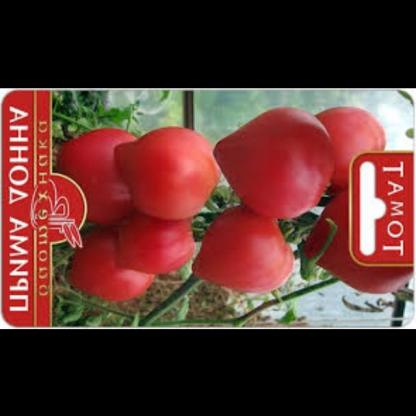tomato: (206, 103, 337, 219), (188, 197, 300, 301), (53, 121, 151, 235), (108, 125, 220, 221), (314, 190, 416, 295), (74, 217, 167, 303), (308, 104, 387, 190), (107, 206, 198, 276)
